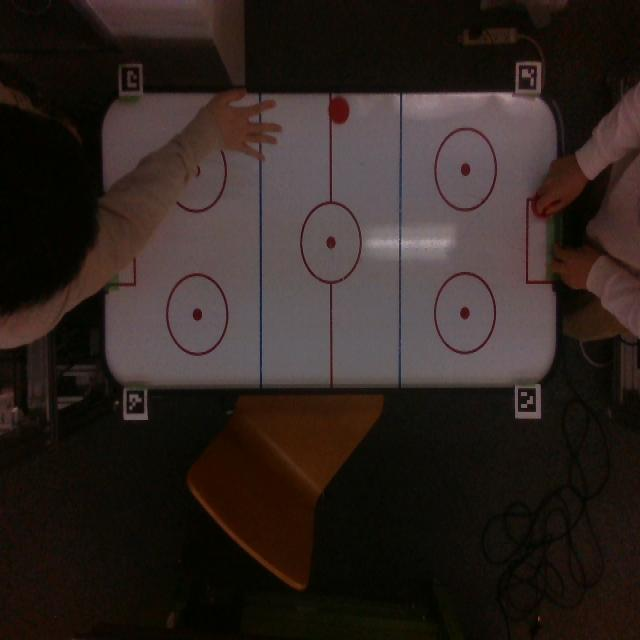puck: (328, 96, 349, 124)
